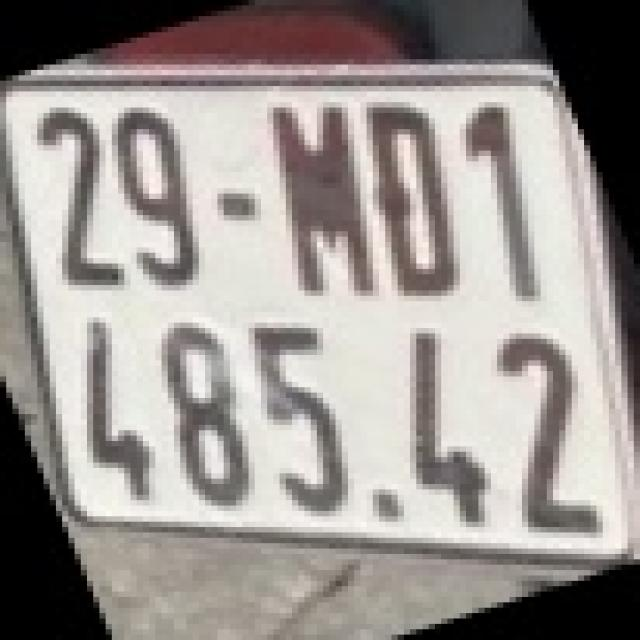1: (466, 107, 547, 296)
2: (497, 328, 615, 538), (38, 108, 124, 285)
4: (404, 328, 497, 527), (81, 318, 155, 506)
5: (255, 323, 354, 516)
8: (162, 322, 248, 506)
9: (118, 108, 199, 285)
D: (372, 107, 453, 296)
M: (270, 94, 370, 299)
